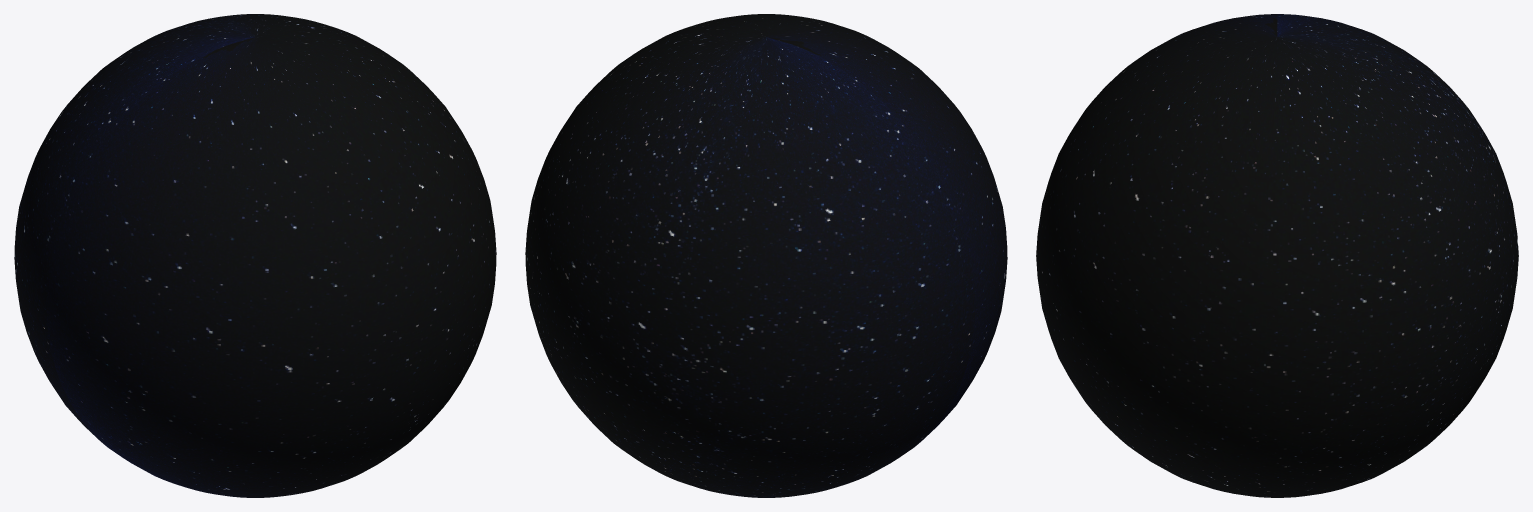
Rendered from Skybox.glb.
The picture shows the model from 3 angles, left to right: view 1: azimuth 30°, elevation 25°; view 2: azimuth 150°, elevation 25°; view 3: azimuth 270°, elevation 25°; orthographic projection.
Parts seen in each view (by area): view 1: Skybox; view 2: Skybox; view 3: Skybox.
Boxes of the visible parts, x1=… form: Skybox: x1=14, y1=14, x2=496, y2=497; Skybox: x1=525, y1=14, x2=1007, y2=497; Skybox: x1=1036, y1=14, x2=1518, y2=497.
Bounding box in the file's own units: 9.92 × 9.92 × 9.92.
Materials: 1 (1 with a texture image).
